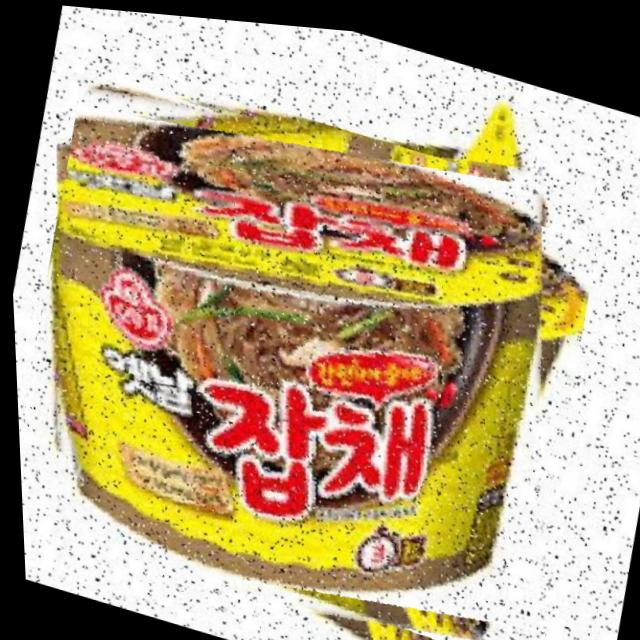Miscellaneous: (1, 45, 616, 640)
